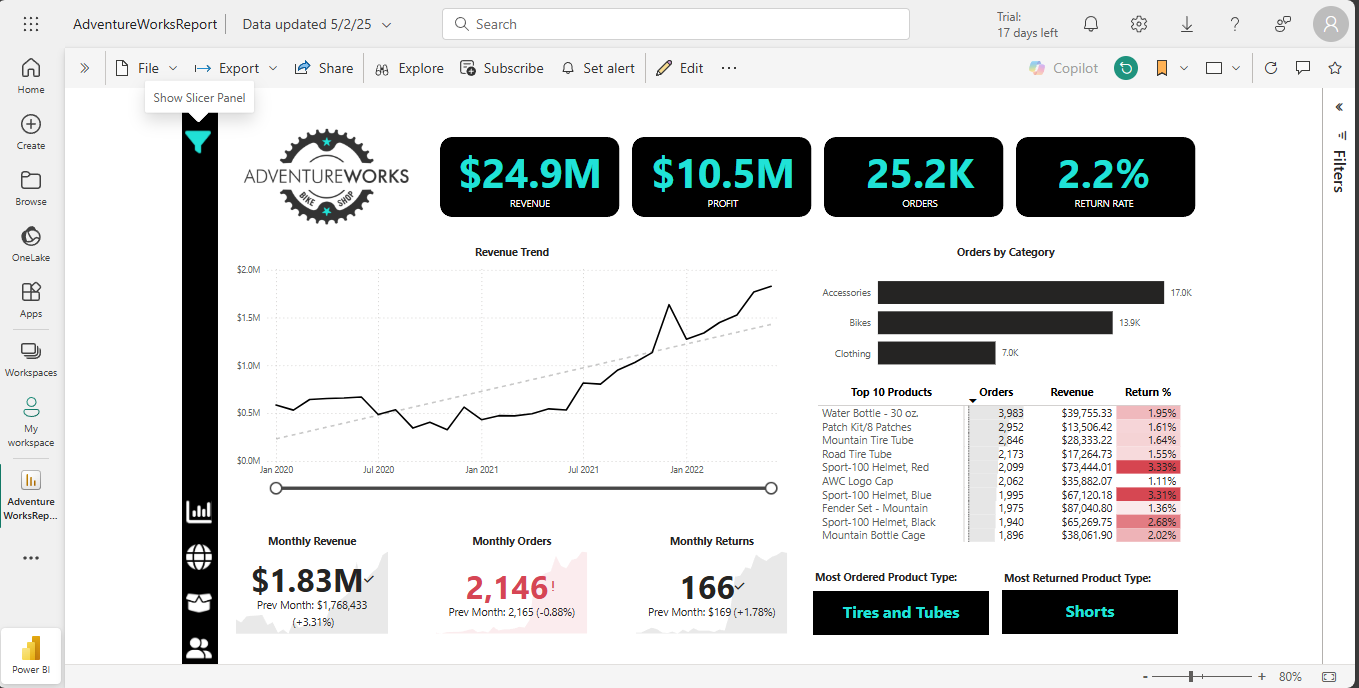

What the dashboard file says about the page in this screenshot:
{"tool":"powerbi","page":{"name":"Executive Dashboard","canvas":[1280,720],"ordinal":0},"visuals":[{"type":"image","title":"AW Logo","box":[49.9,28.1,261.7,163.9],"z":0},{"type":"shape","box":[322.7,61.4,225,100.3],"z":0,"group":"g2"},{"type":"shape","title":"Left Nav Bar","box":[0,0,45,720.2],"z":1000},{"type":"shape","box":[802.8,61.4,225,100.3],"z":1000,"group":"g2"},{"type":"actionButton","box":[1.1,510,45,40],"z":1000,"group":"g4"},{"type":"group","id":"g1","title":"KPIs","box":[315.4,51.6,952.6,119.8],"z":2000},{"type":"group","id":"g2","title":"KPI Background","box":[322.7,61.4,945.2,100.3],"z":2000,"group":"g1"},{"type":"shape","box":[1042.8,61.4,225,100.3],"z":2000,"group":"g2"},{"type":"actionButton","box":[1.1,566.7,45,40],"z":2000,"group":"g4"},{"type":"card","fields":{"Values":["Measure Table.Total Revenue"]},"box":[315.4,51.6,239.7,119.8],"z":3000,"group":"g3"},{"type":"shape","box":[562.8,61.4,225,100.3],"z":3000,"group":"g2"},{"type":"lineChart","title":"Revenue Trend","fields":{"Y":["Measure Table.Total Revenue"],"Category":["Calendar Lookup.Date Hierarchy.Start of Year","Calendar Lookup.Date Hierarchy.Start of Quarter","Calendar Lookup.Date Hierarchy.Start of Month"]},"box":[62.6,195.9,700,315],"z":3000},{"type":"actionButton","box":[1.1,623.3,45,40],"z":3000,"group":"g4"},{"type":"card","fields":{"Values":["Measure Table.Total Profit"]},"box":[556.3,51.6,239.7,119.8],"z":4000,"group":"g3"},{"type":"kpi","title":"Monthly Revenue","fields":{"Indicator":["Measure Table.Total Revenue"],"TrendLine":["Calendar Lookup.Date Hierarchy.Start of Month"],"Goal":["Measure Table.Previous Month Revenue"]},"box":[62.6,557.7,200,129.6],"z":4000},{"type":"actionButton","box":[1.1,680,45,40],"z":4000,"group":"g4"},{"type":"card","fields":{"Values":["Measure Table.Total Orders"]},"box":[803.3,51.6,239.7,119.8],"z":5000,"group":"g3"},{"type":"kpi","title":"Monthly Returns","fields":{"TrendLine":["Calendar Lookup.Date Hierarchy.Start of Month"],"Indicator":["Measure Table.Total Returns"],"Goal":["Measure Table.Previous Month Returns"]},"box":[562.5,557.7,199.3,129.6],"z":5000},{"type":"card","fields":{"Values":["Measure Table.Return Rate"]},"box":[1043,51.6,220.1,119.8],"z":6000,"group":"g3"},{"type":"kpi","title":"Monthly Orders","fields":{"TrendLine":["Calendar Lookup.Date Hierarchy.Start of Month"],"Indicator":["Measure Table.Total Orders"],"Goal":["Measure Table.Previous Month Orders"]},"box":[312.9,557.7,199.3,129.6],"z":6000},{"type":"group","id":"g3","title":"KPI Values","box":[315.4,51.6,947.7,119.8],"z":6001,"group":"g1"},{"type":"clusteredBarChart","title":"Orders by Category","fields":{"Category":["Product Categories Lookup.CategoryName"],"Y":["Measure Table.Total Orders"]},"box":[790,195.7,479.4,171.2],"z":7000},{"type":"pivotTable","fields":{"Rows":["Product Lookup.ProductName"],"Values":["Measure Table.Total Orders","Measure Table.Total Revenue","Measure Table.Return Rate"]},"box":[790,366.9,473.2,221.3],"z":8000},{"type":"card","fields":{"Values":["Min(Product Subcategories Lookup.SubcategoryName)"]},"box":[788.8,628.8,220,55],"z":9000},{"type":"textbox","box":[786.2,597.5,190,37.5],"z":10000},{"type":"card","fields":{"Values":["Min(Product Subcategories Lookup.SubcategoryName)"]},"box":[1024.7,627.3,220,55],"z":11000},{"type":"textbox","box":[1022.5,598.8,197.5,28.8],"z":12000},{"type":"actionButton","box":[0,0,45,41.2],"z":13000},{"type":"group","id":"g4","title":"Page Nav Buttons","box":[1.1,510,45,210],"z":14000},{"type":"actionButton","box":[0,47.5,45,40],"z":15000}]}

Visuals, with their boxes on the page's 1280x720 design canvas (x1, y1, x2, y2). These are canvas units, not pixel positions in the 1359x688 screenshot, which may show the page scaled, cropped or inside an application window:
"AW Logo" image: detection(50, 28, 312, 192)
shape: detection(323, 61, 548, 162)
"Left Nav Bar" shape: detection(0, 0, 45, 720)
shape: detection(803, 61, 1028, 162)
actionButton: detection(1, 510, 46, 550)
"KPIs" group: detection(315, 52, 1268, 171)
"KPI Background" group: detection(323, 61, 1268, 162)
shape: detection(1043, 61, 1268, 162)
actionButton: detection(1, 567, 46, 607)
card - Measure Table.Total Revenue: detection(315, 52, 555, 171)
shape: detection(563, 61, 788, 162)
"Revenue Trend" lineChart: detection(63, 196, 763, 511)
actionButton: detection(1, 623, 46, 663)
card - Measure Table.Total Profit: detection(556, 52, 796, 171)
"Monthly Revenue" kpi: detection(63, 558, 263, 687)
actionButton: detection(1, 680, 46, 720)
card - Measure Table.Total Orders: detection(803, 52, 1043, 171)
"Monthly Returns" kpi: detection(562, 558, 762, 687)
card - Measure Table.Return Rate: detection(1043, 52, 1263, 171)
"Monthly Orders" kpi: detection(313, 558, 512, 687)
"KPI Values" group: detection(315, 52, 1263, 171)
"Orders by Category" clusteredBarChart: detection(790, 196, 1269, 367)
pivotTable - Product Lookup.ProductName x Measure Table.Total Orders: detection(790, 367, 1263, 588)
card - Min(Product Subcategories Lookup.SubcategoryName): detection(789, 629, 1009, 684)
textbox: detection(786, 598, 976, 635)
card - Min(Product Subcategories Lookup.SubcategoryName): detection(1025, 627, 1245, 682)
textbox: detection(1022, 599, 1220, 628)
actionButton: detection(0, 0, 45, 41)
"Page Nav Buttons" group: detection(1, 510, 46, 720)
actionButton: detection(0, 48, 45, 88)
